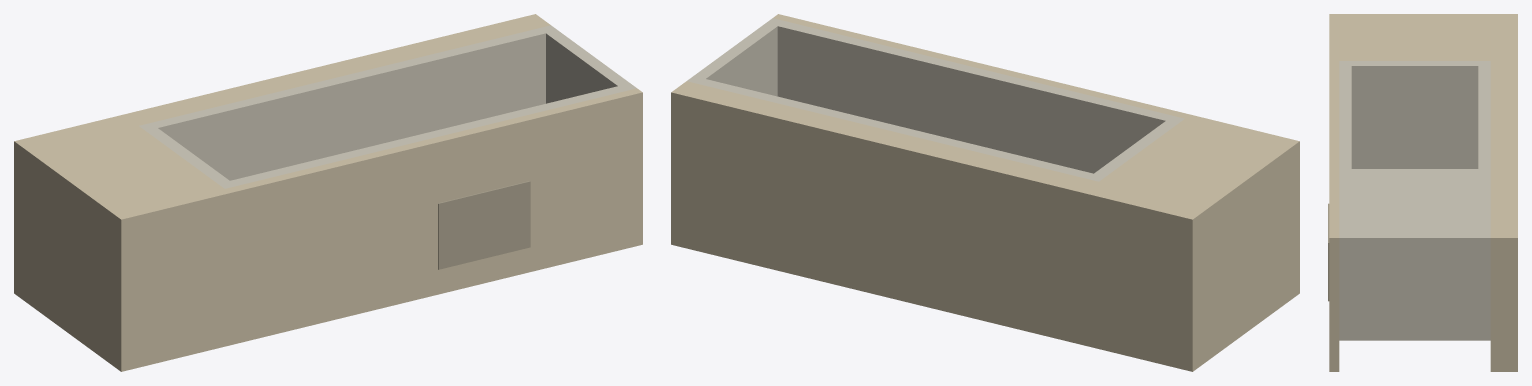
The model's file is bathtub-alcove.glb.
3 renders of one model, left to right at view 1: azimuth 30°, elevation 25°; view 2: azimuth 150°, elevation 25°; view 3: azimuth 270°, elevation 25°, orthographic. The views are drawn at different scales.
Visible parts, largest first — view 1: tile, enamel, plastic-light; view 2: tile, enamel; view 3: enamel, tile, plastic-light.
Part boxes in pixels (x1,y1,x2,y2): tile: (14, 14, 642, 371); enamel: (139, 25, 636, 188); plastic-light: (438, 181, 530, 269); tile: (671, 14, 1299, 371); enamel: (687, 18, 1184, 181); enamel: (1339, 61, 1490, 340); tile: (1329, 14, 1517, 371); plastic-light: (1328, 203, 1329, 301).
Bounding box in the file's own units: 2.15 × 0.6 × 0.77.
